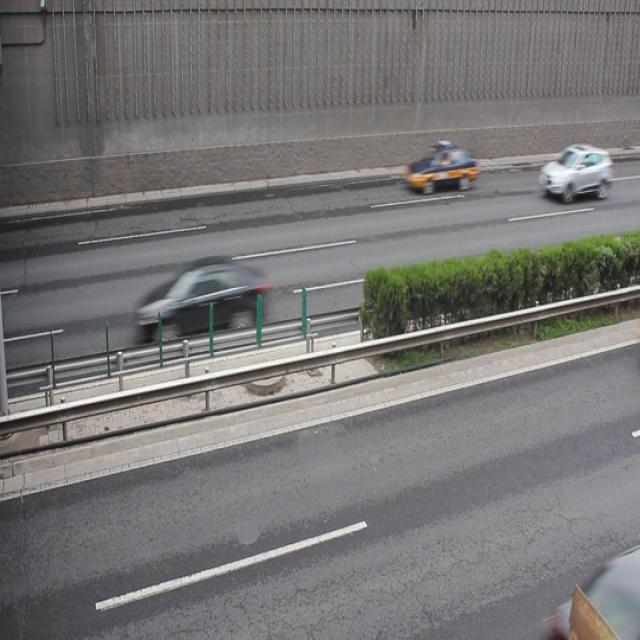car: (135, 255, 265, 341), (538, 142, 610, 200), (404, 143, 477, 194)
